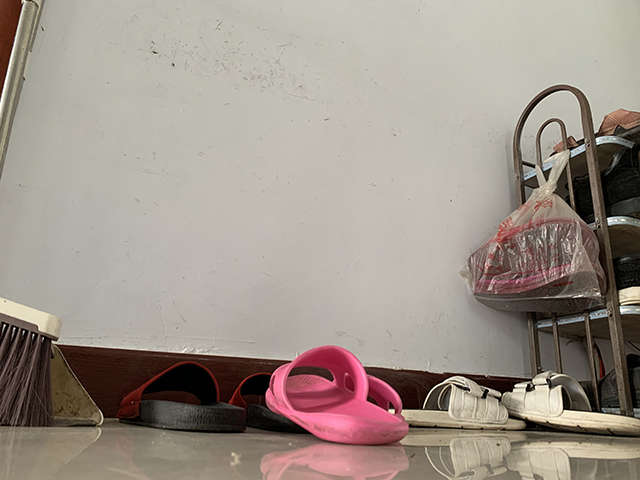slippers: (263, 342, 410, 445), (117, 360, 251, 433), (505, 370, 640, 438), (388, 376, 527, 429)
